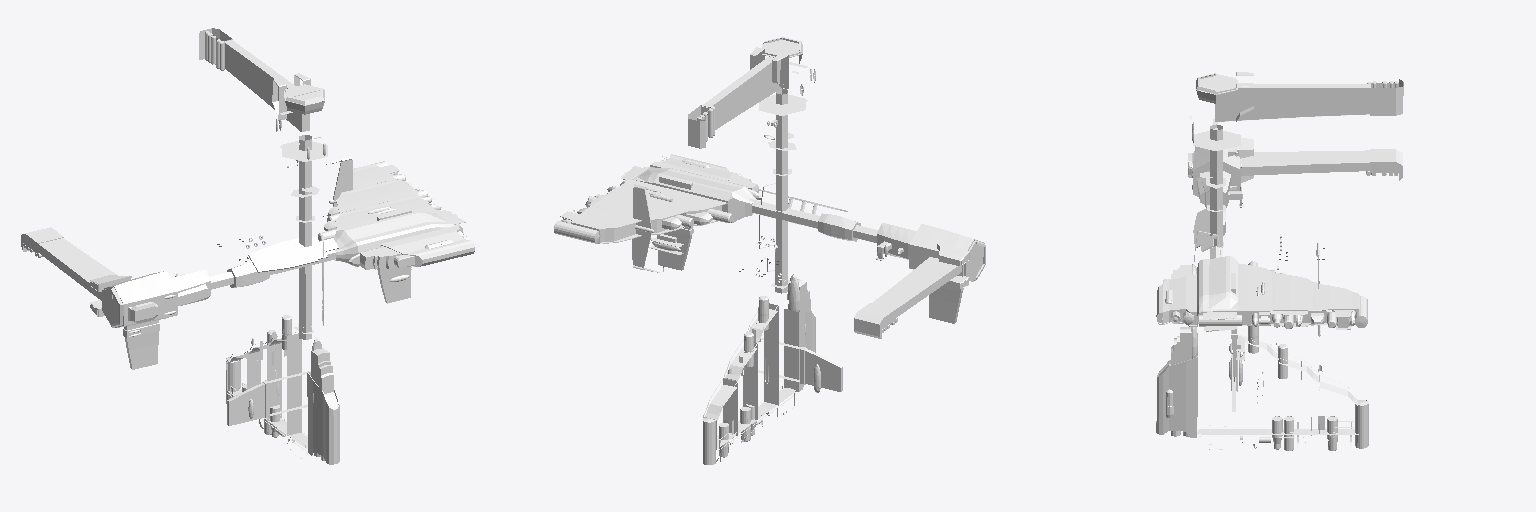
The model's file is RVRE_Anodyne.obj.
The picture shows the model from 3 angles: view 1: azimuth 30°, elevation 25°; view 2: azimuth 150°, elevation 25°; view 3: azimuth 270°, elevation 25°; orthographic projection.
Parts seen in each view (by area): view 1: FOCAlliance, AMLights01; view 2: FOCAlliance, AMLights01; view 3: FOCAlliance, AMLights01.
Boxes of the visible parts, box(x1,y1,x2,y2) form: FOCAlliance: box(21, 156, 480, 369); AMLights01: box(199, 28, 339, 464); FOCAlliance: box(554, 154, 985, 338); AMLights01: box(688, 37, 842, 464); FOCAlliance: box(1156, 138, 1402, 381); AMLights01: box(1156, 72, 1403, 450).
Size of the model in its own units: 450 by 442 by 267.